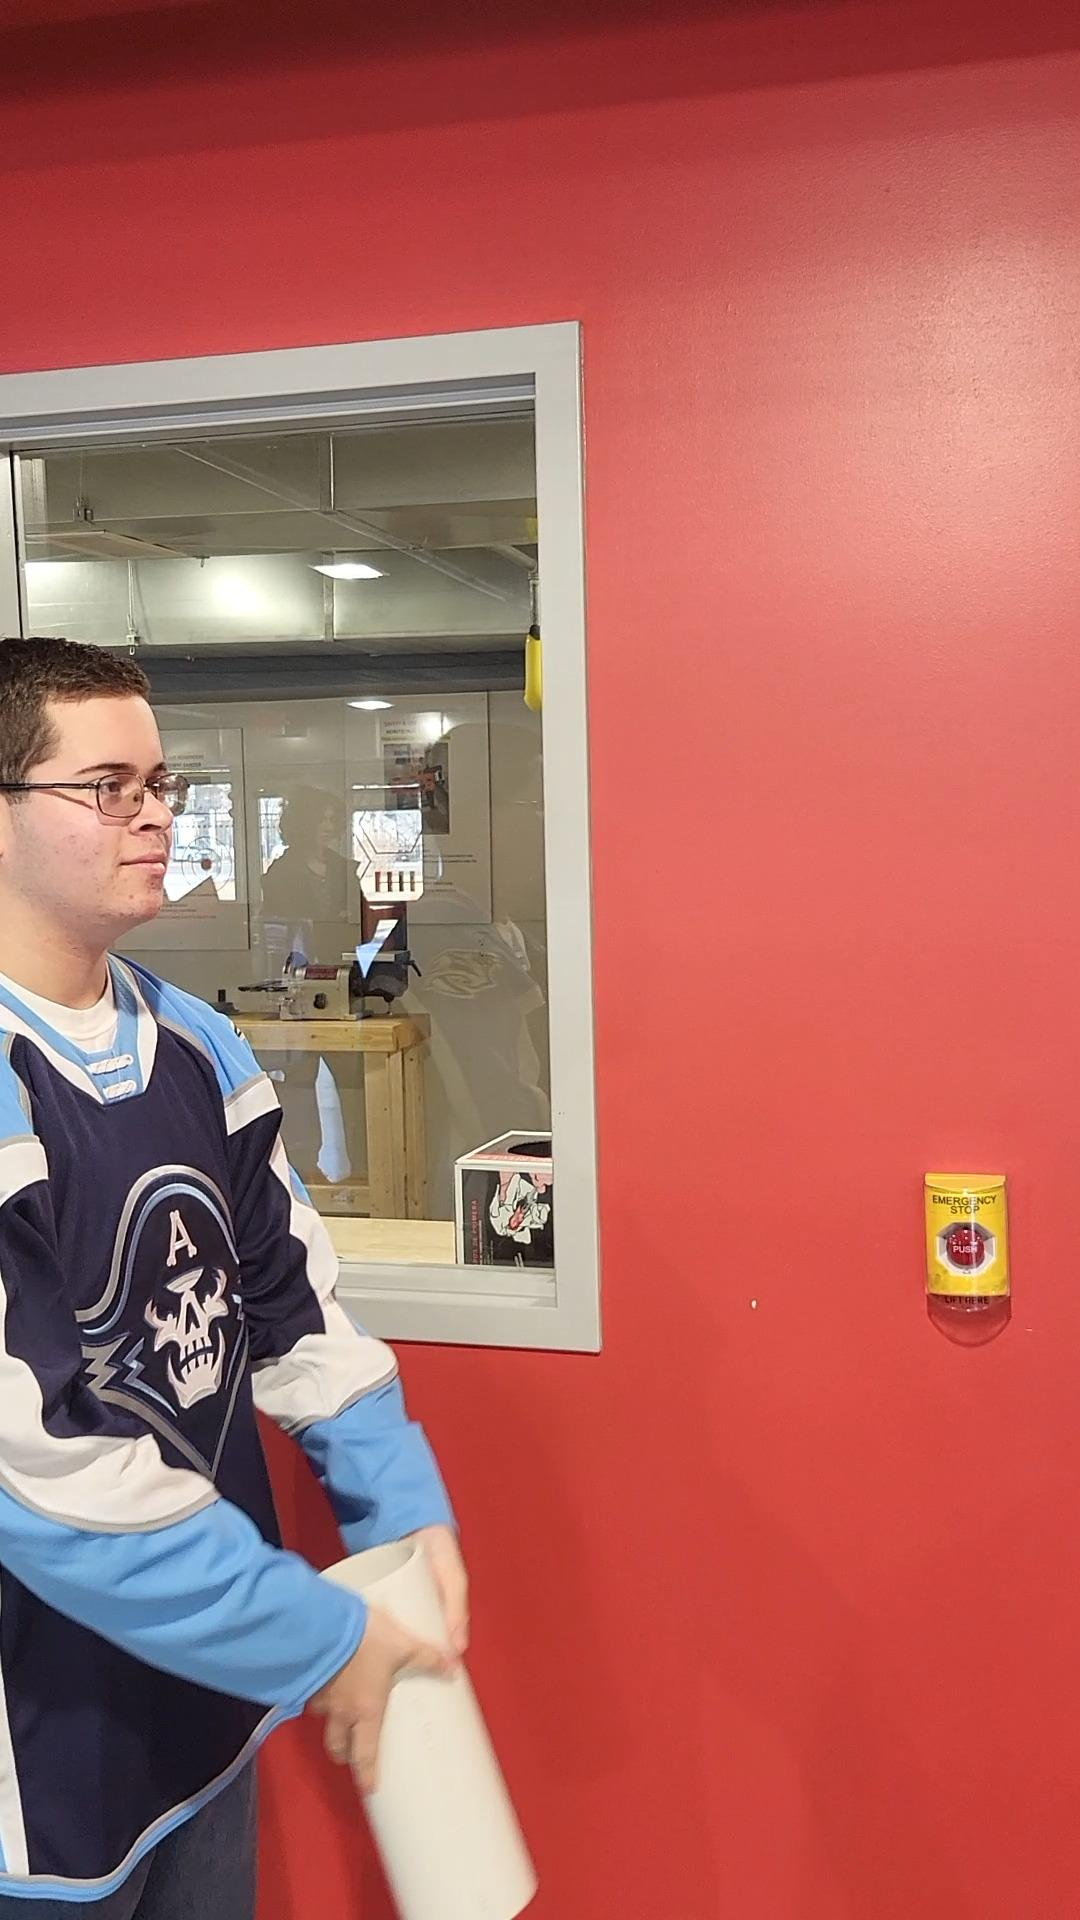coral: (301, 1547, 533, 1920)
